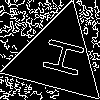H: (33, 33, 86, 80)
